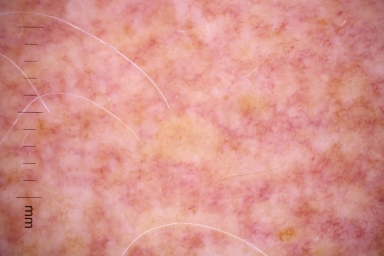melanoma: (158, 111, 220, 164)
